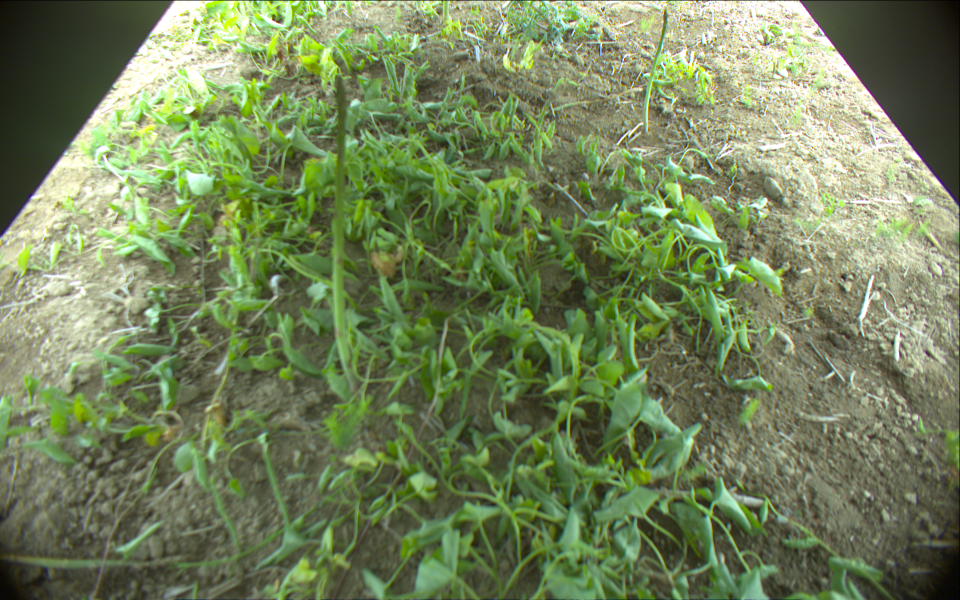aspa: (331, 76, 355, 370), (642, 9, 667, 132), (443, 1, 448, 24)
